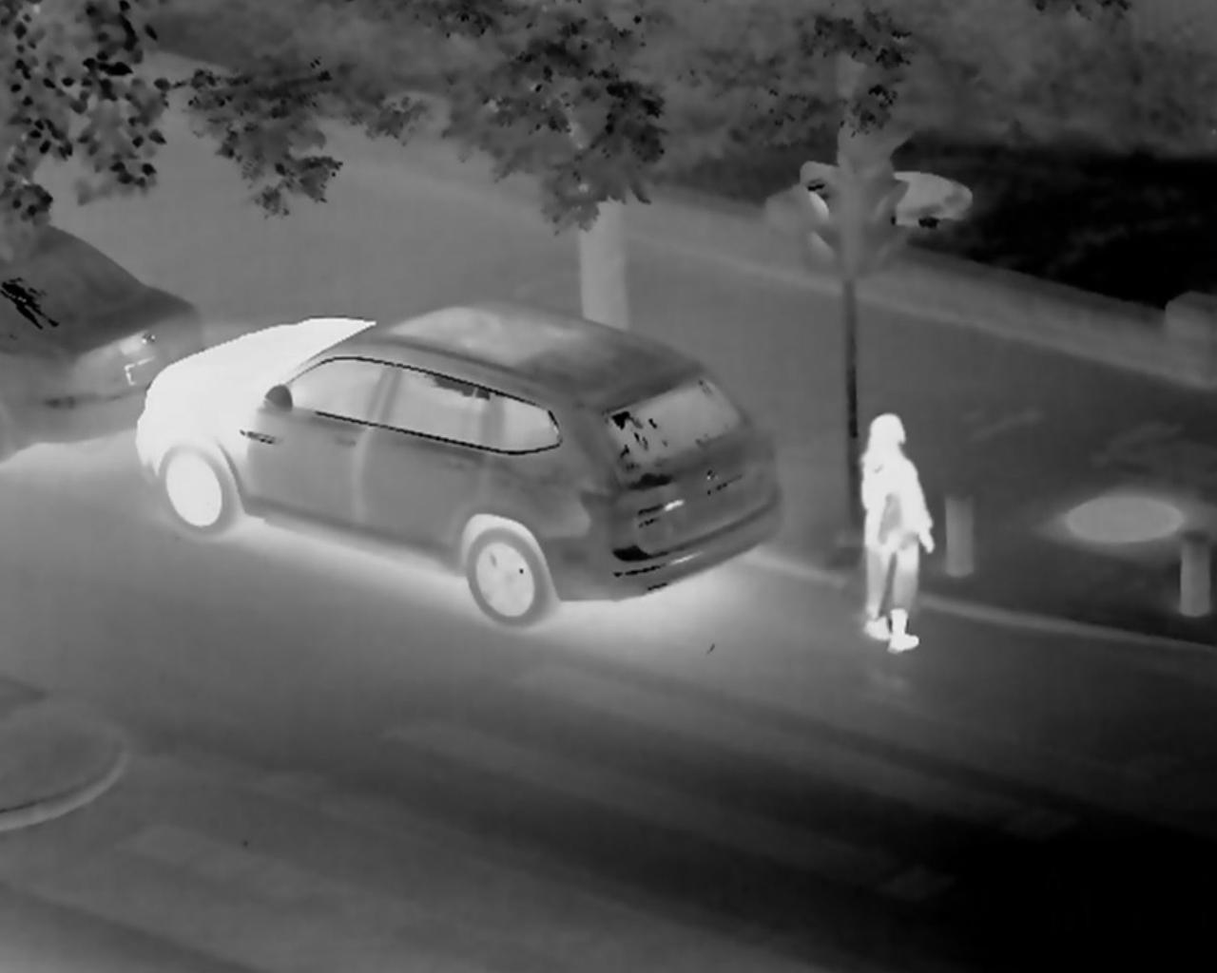person: (843, 408, 955, 675)
